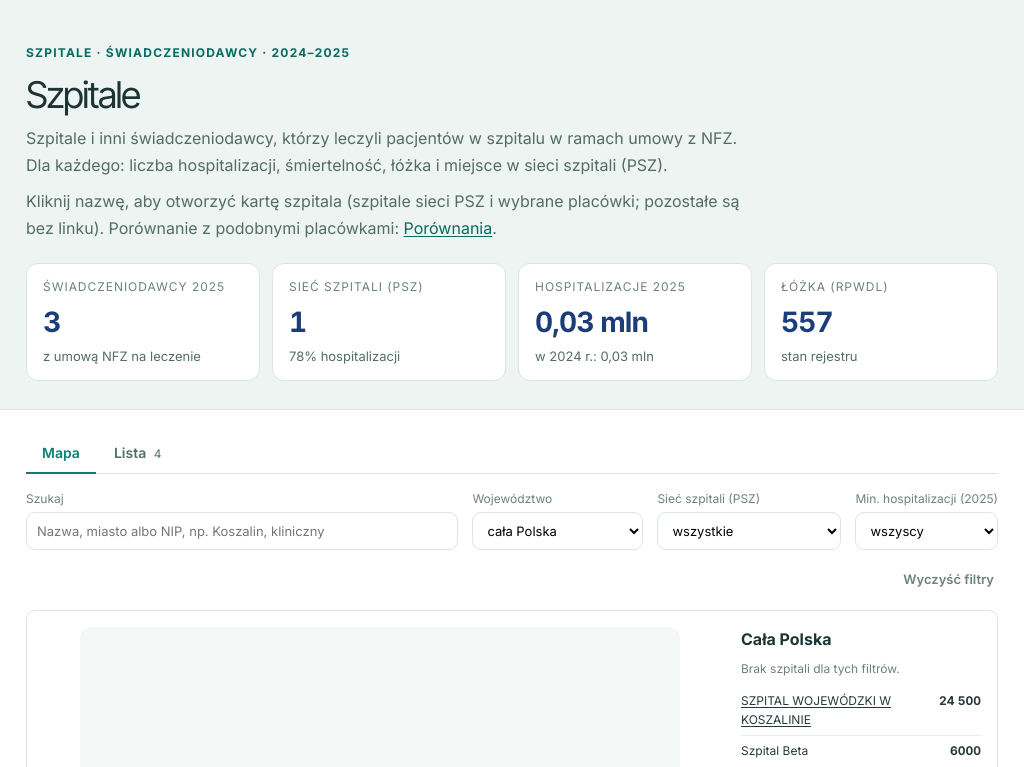
Scenario: Katalog szpitali › mapa: kropki spoza filtrów zostają szare w tym samym miejscu; wielkość nie zależy od filtrów
Type "Beta" into the search field. click: (242, 531)
box: [26,512,458,550]
(page scrolled)
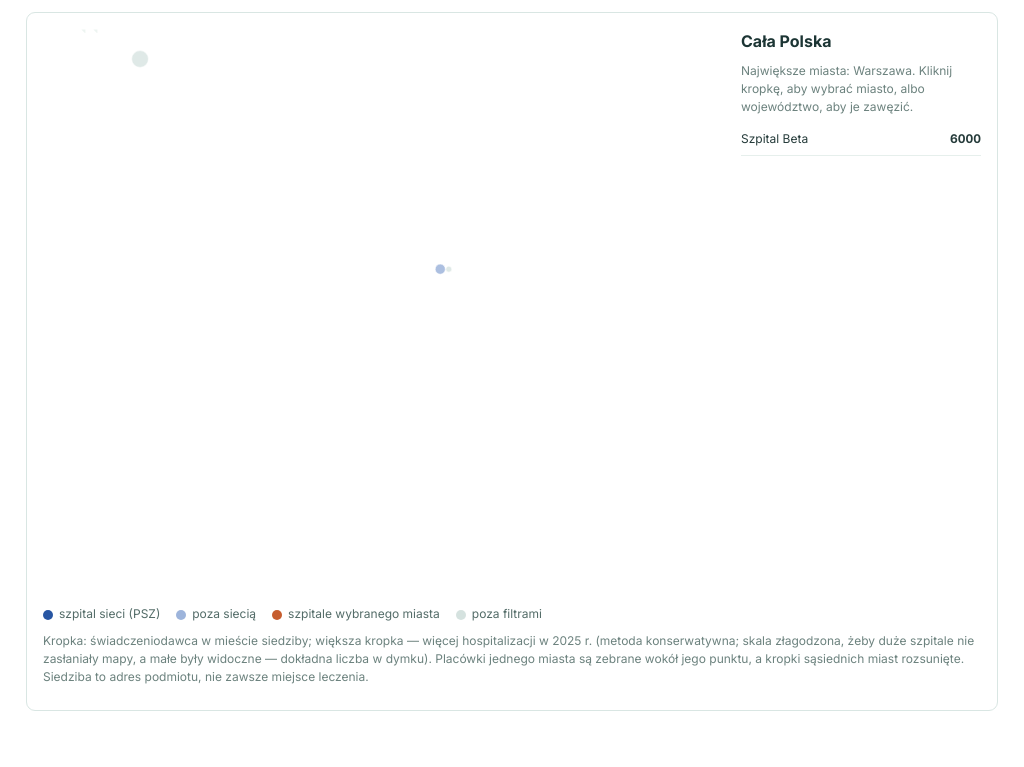
Expected: the list named "Legenda mapy" shows "poza filtrami", [472,606,542,621]
